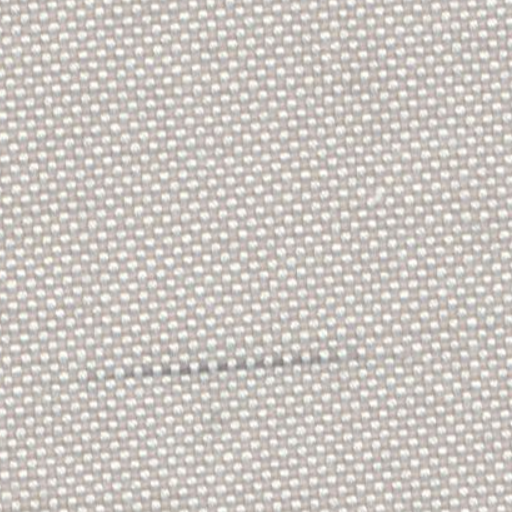WuZi: (88, 343, 374, 380)
